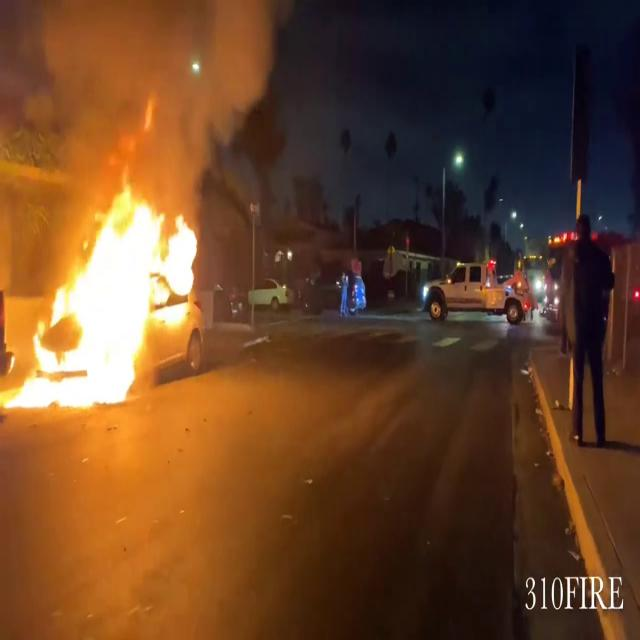Fire: (2, 174, 208, 416)
Smoke: (0, 0, 288, 197)
